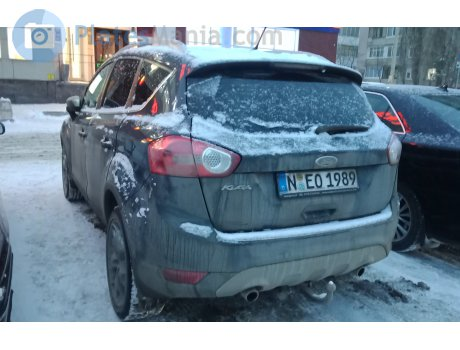License Plates: (280, 167, 355, 184)
